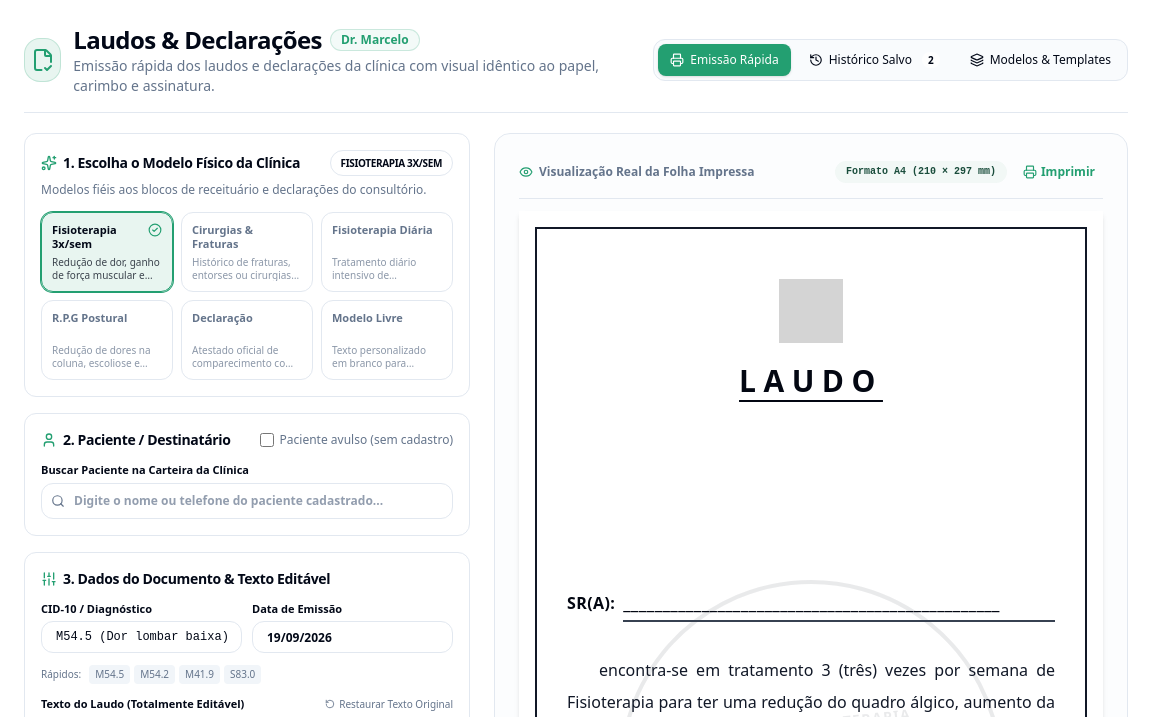
Test: Permite selecionar paciente cadastrado ou digitar paciente avulso
This screenshot has width=1152, height=717.
// Paciente avulso: marcar checkbox
Click the checkbox labelled "Paciente avulso (sem cadastro)" at (266, 440), box [260, 433, 274, 447]
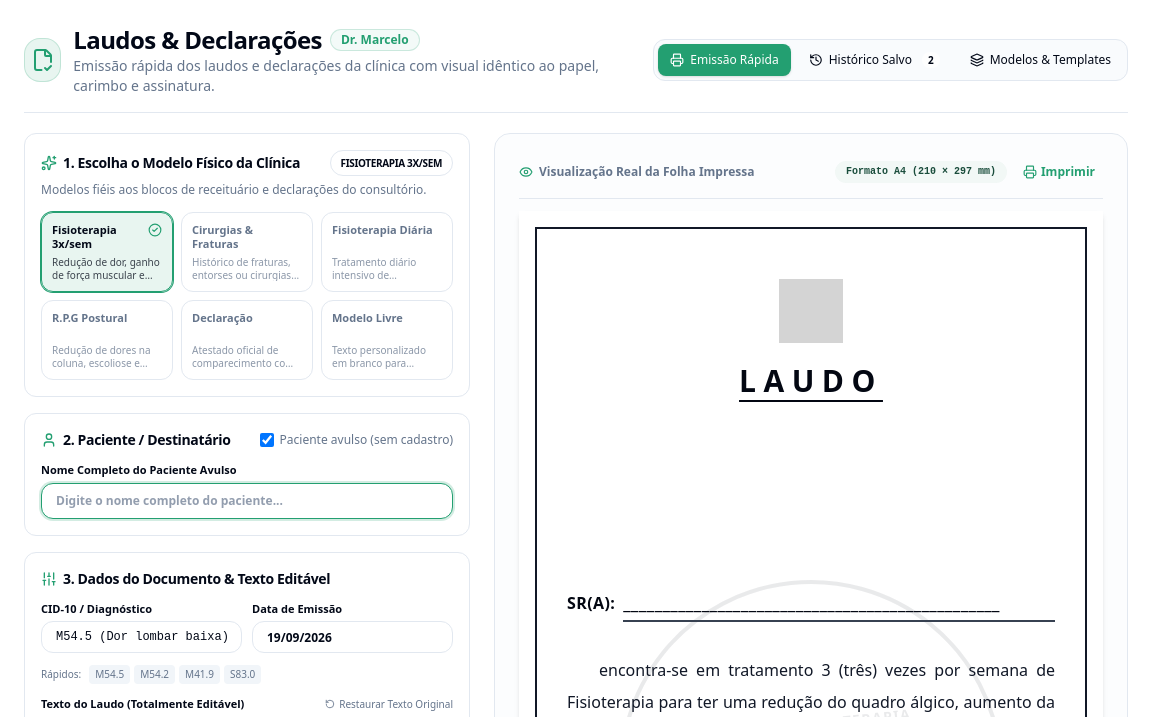
Type "Mariana Costa" into the field with placeholder "Digite o nome completo do paciente..." at (247, 500), box [41, 482, 453, 518]
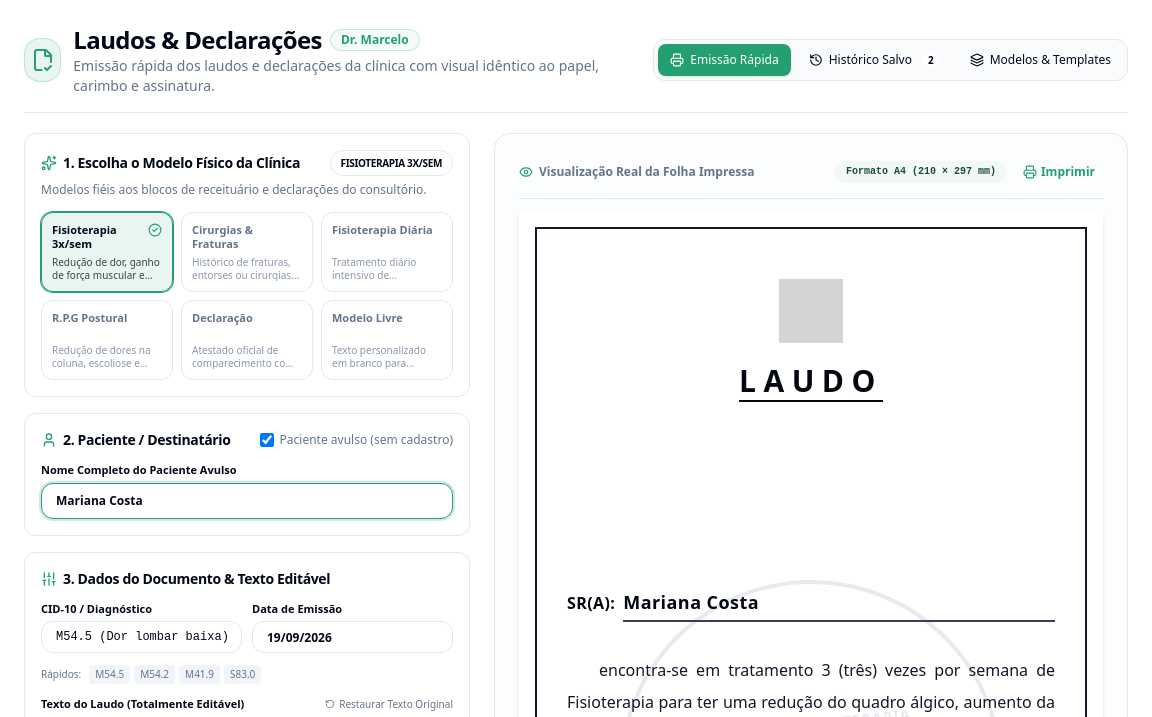
Now the text "Mariana Costa" is shown, box [623, 590, 759, 614]
